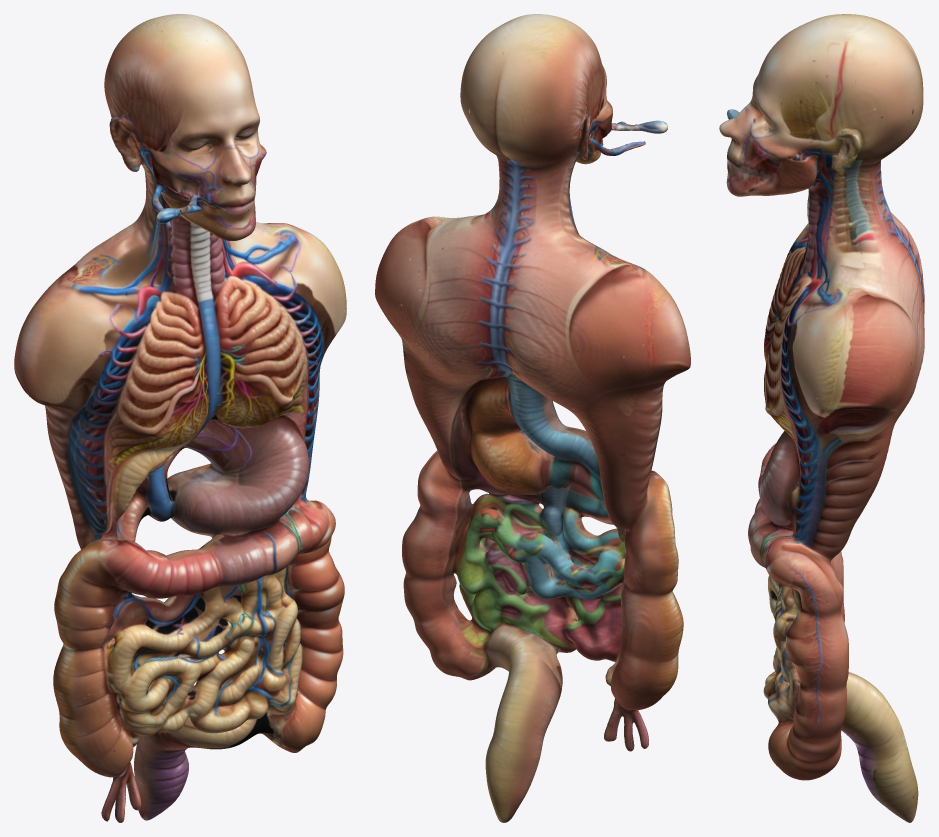
Rendered from organ_pencernaan_manusia.glb.
The picture shows the model from 3 angles, left to right: view 1: azimuth 30°, elevation 25°; view 2: azimuth 150°, elevation 25°; view 3: azimuth 270°, elevation 25°; orthographic projection. The views are drawn at different scales.
Parts seen in each view (by area): view 1: Object_4, Object_6, Object_5, Object_7; view 2: Object_5, Object_6, Object_4, Object_7; view 3: Object_4, Object_5, Object_6, Object_7.
Boxes of the visible parts, left/top/right/bottom form: Object_4: left=39, top=17, right=346, bottom=539; Object_6: left=15, top=14, right=343, bottom=822; Object_5: left=14, top=35, right=344, bottom=751; Object_7: left=66, top=446, right=290, bottom=697; Object_5: left=375, top=46, right=690, bottom=652; Object_6: left=402, top=15, right=690, bottom=822; Object_4: left=375, top=14, right=671, bottom=506; Object_7: left=487, top=470, right=673, bottom=611; Object_4: left=719, top=14, right=900, bottom=559; Object_5: left=748, top=35, right=924, bottom=771; Object_6: left=763, top=14, right=923, bottom=822; Object_7: left=750, top=443, right=787, bottom=620.
Bounding box in the file's own units: 0.8158 × 2 × 0.4648.
1 material, 1 textured.
